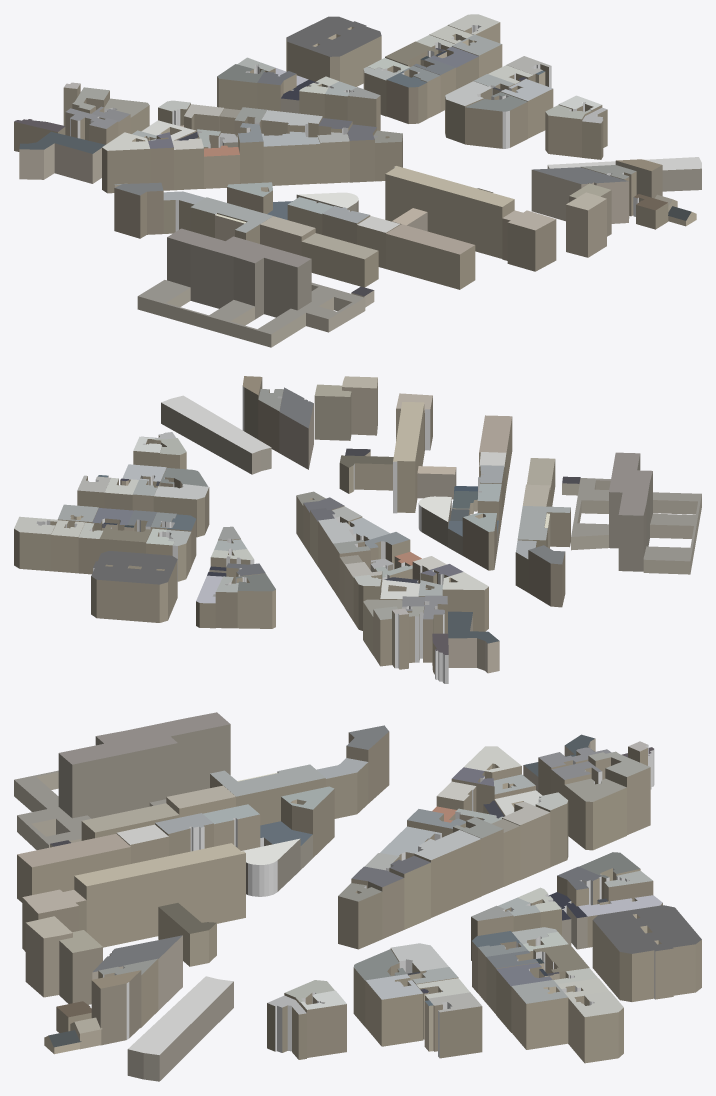
The picture shows the model from 3 angles, top to bottom: view 1: azimuth 30°, elevation 25°; view 2: azimuth 150°, elevation 25°; view 3: azimuth 270°, elevation 25°; orthographic projection. The views are drawn at different scales.
Visible parts, largest first — view 1: tuile; view 2: tuile; view 3: tuile.
Part boxes in pixels (bbox=[...]): tuile: bbox=[14, 14, 701, 347]; tuile: bbox=[14, 376, 701, 683]; tuile: bbox=[14, 712, 701, 1081].
Bounding box in the file's own units: 318 × 36.38 × 278.
